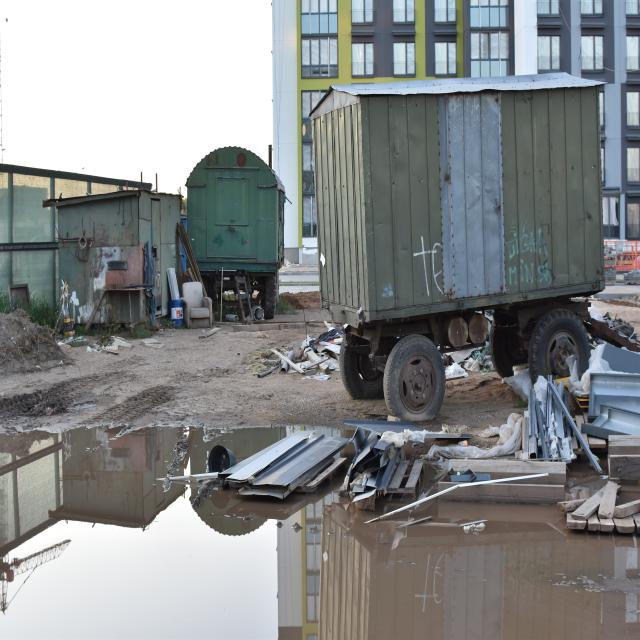entulho: (340, 423, 424, 505), (230, 433, 335, 497), (579, 349, 640, 441), (527, 381, 574, 462), (254, 318, 318, 374), (565, 410, 630, 464), (571, 483, 640, 532), (439, 320, 496, 374), (448, 480, 564, 505), (447, 458, 563, 480), (176, 219, 206, 299), (593, 342, 640, 382), (183, 280, 215, 329), (487, 415, 524, 457), (296, 326, 338, 362), (608, 438, 640, 484), (209, 439, 240, 477), (55, 280, 75, 338), (234, 275, 256, 326), (56, 229, 92, 260), (601, 313, 637, 337), (244, 320, 314, 332), (235, 484, 289, 499), (527, 391, 538, 460), (422, 432, 464, 450), (166, 266, 183, 303), (605, 246, 620, 281), (444, 362, 467, 380), (170, 299, 183, 326), (259, 363, 281, 378), (198, 327, 220, 339), (603, 243, 616, 260), (306, 320, 336, 327), (623, 271, 640, 283)
terra: (0, 306, 62, 366)
